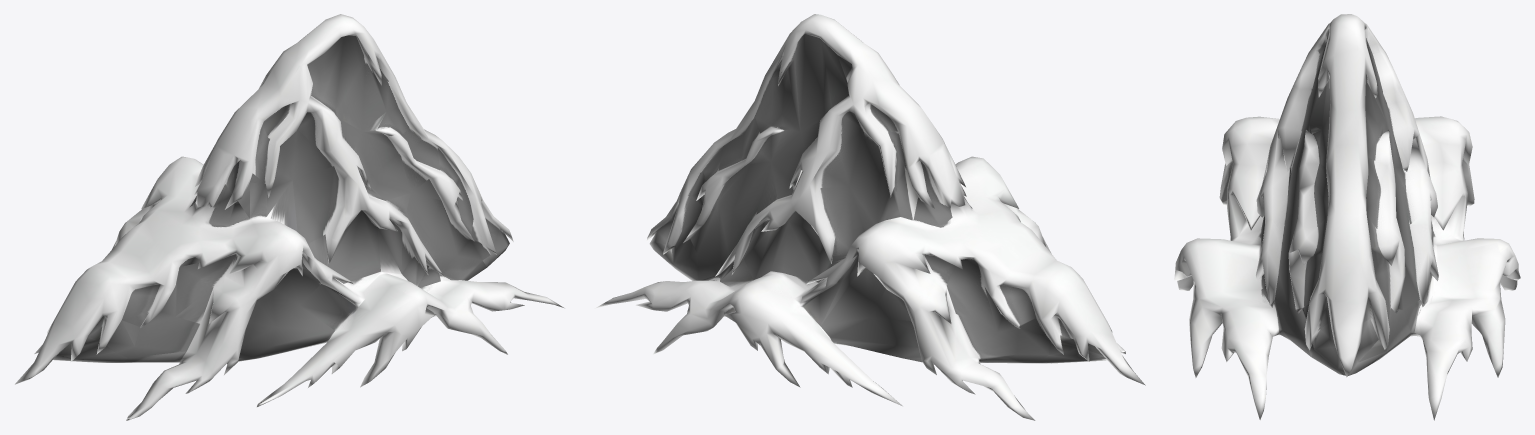
File: alps-peak.glb
3 views of the same model, side by side, from view 1: azimuth 30°, elevation 25°; view 2: azimuth 150°, elevation 25°; view 3: azimuth 270°, elevation 25° (orthographic). The views are drawn at different scales.
Parts seen in each view (by area): view 1: tripo_node_7db4becb-fa0c-4f2d-a0fe-1849c9dc57fc; view 2: tripo_node_7db4becb-fa0c-4f2d-a0fe-1849c9dc57fc; view 3: tripo_node_7db4becb-fa0c-4f2d-a0fe-1849c9dc57fc.
Boxes of the visible parts, left/top/right/bottom form: tripo_node_7db4becb-fa0c-4f2d-a0fe-1849c9dc57fc: left=15, top=14, right=564, bottom=420; tripo_node_7db4becb-fa0c-4f2d-a0fe-1849c9dc57fc: left=594, top=14, right=1145, bottom=420; tripo_node_7db4becb-fa0c-4f2d-a0fe-1849c9dc57fc: left=1174, top=14, right=1520, bottom=420.
Size of the model in its own units: 0.9868 by 0.5692 by 0.5685.
1 material, 1 textured.
